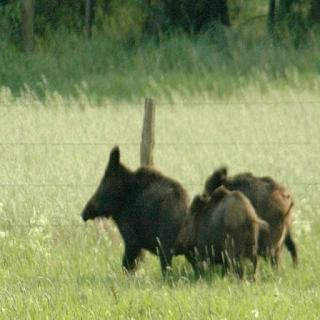Pig: (68, 137, 190, 270), (204, 160, 304, 252), (178, 187, 265, 266)
